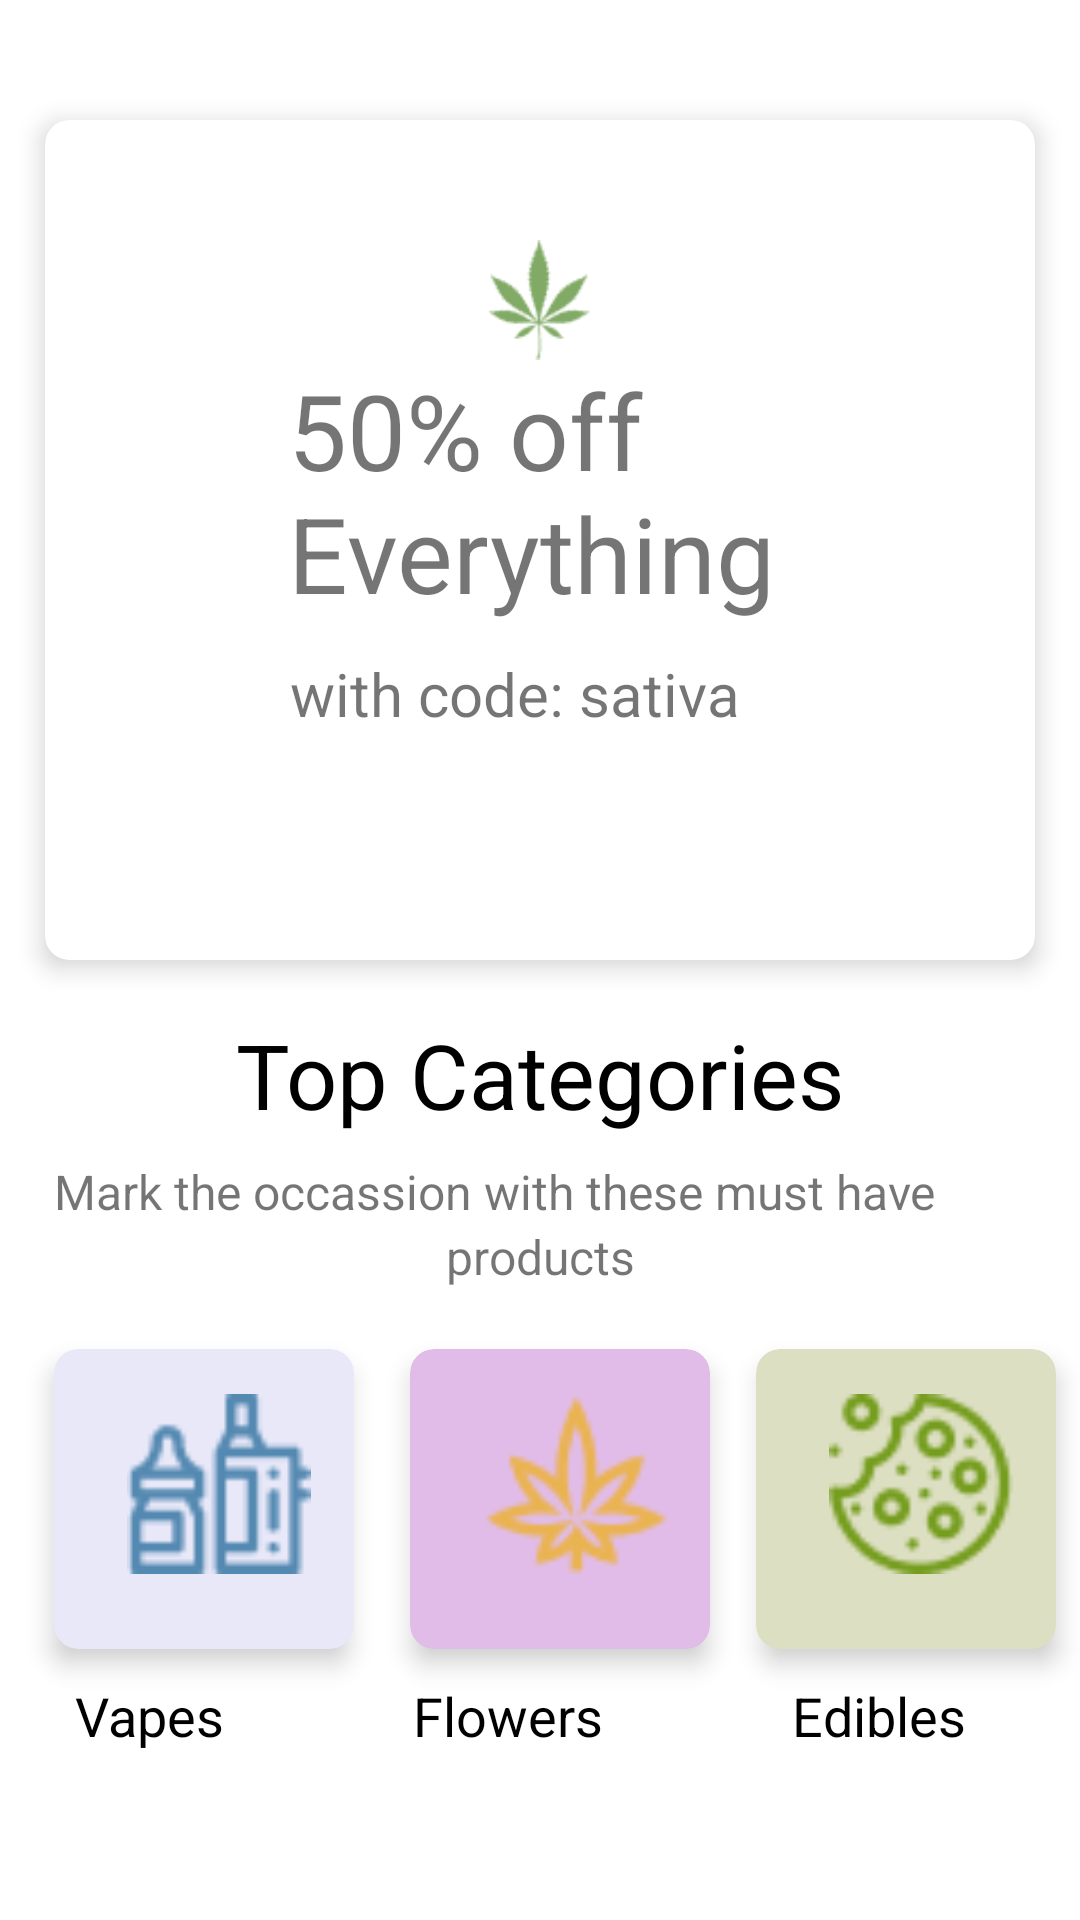

Screen size 1080px x 1920px. Icon name, then its box in pixels as {"x1": x1, "y1": y1, "x2": x2, "y2": y2}:
cannabis: {"x1": 486, "y1": 1397, "x2": 667, "y2": 1574}
cookie: {"x1": 829, "y1": 1394, "x2": 1011, "y2": 1574}
leaf: {"x1": 489, "y1": 240, "x2": 589, "y2": 360}
